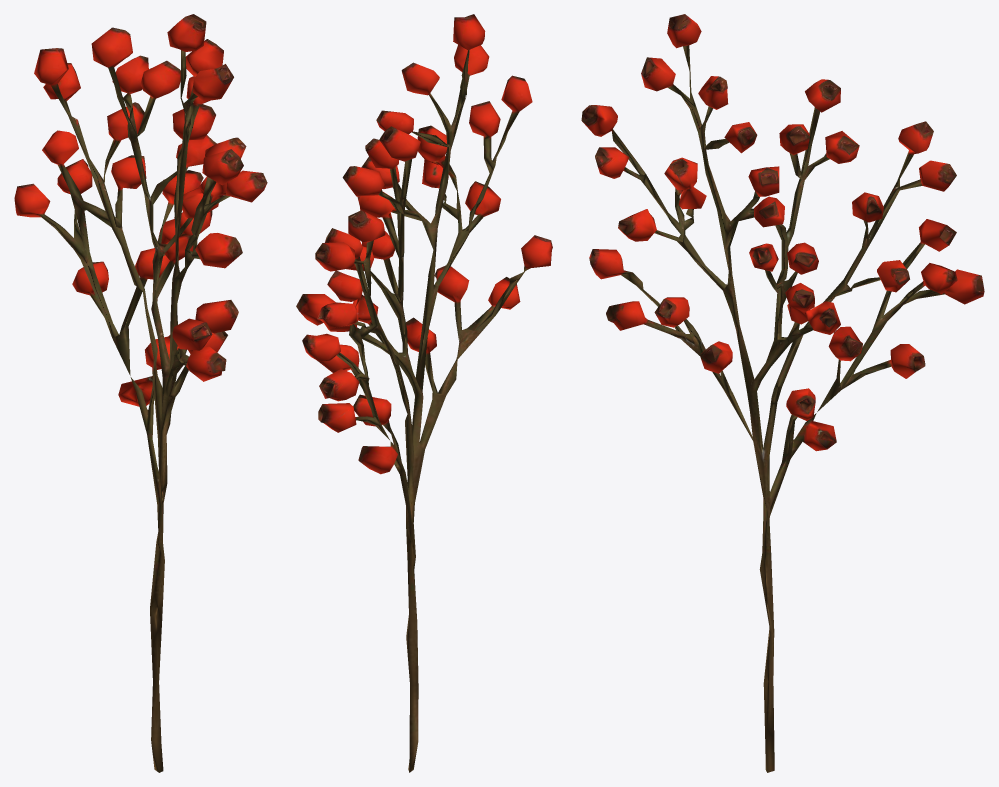
The model's file is RedBerry.glb.
The picture shows the model from 3 angles, left to right: view 1: azimuth 30°, elevation 25°; view 2: azimuth 150°, elevation 25°; view 3: azimuth 270°, elevation 25°; orthographic projection. The views are drawn at different scales.
Parts seen in each view (by area): view 1: tripo_node_faf51cab-41f7-4aea-b801-4d1c9138c171; view 2: tripo_node_faf51cab-41f7-4aea-b801-4d1c9138c171; view 3: tripo_node_faf51cab-41f7-4aea-b801-4d1c9138c171.
Boxes of the visible parts, left/top/right/bottom form: tripo_node_faf51cab-41f7-4aea-b801-4d1c9138c171: left=14, top=14, right=267, bottom=772; tripo_node_faf51cab-41f7-4aea-b801-4d1c9138c171: left=296, top=14, right=552, bottom=772; tripo_node_faf51cab-41f7-4aea-b801-4d1c9138c171: left=581, top=14, right=984, bottom=772.
Size of the model in its own units: 0.1866 by 0.999 by 0.4873.
1 material, 1 textured.
